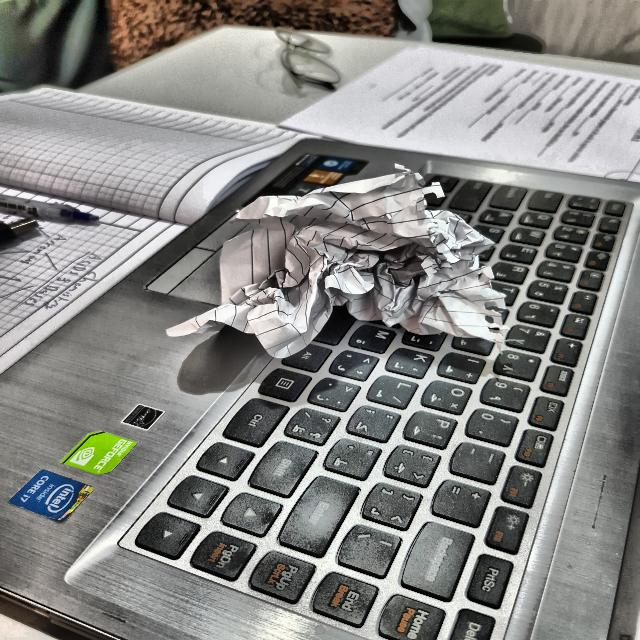Paper: (186, 162, 506, 364)
